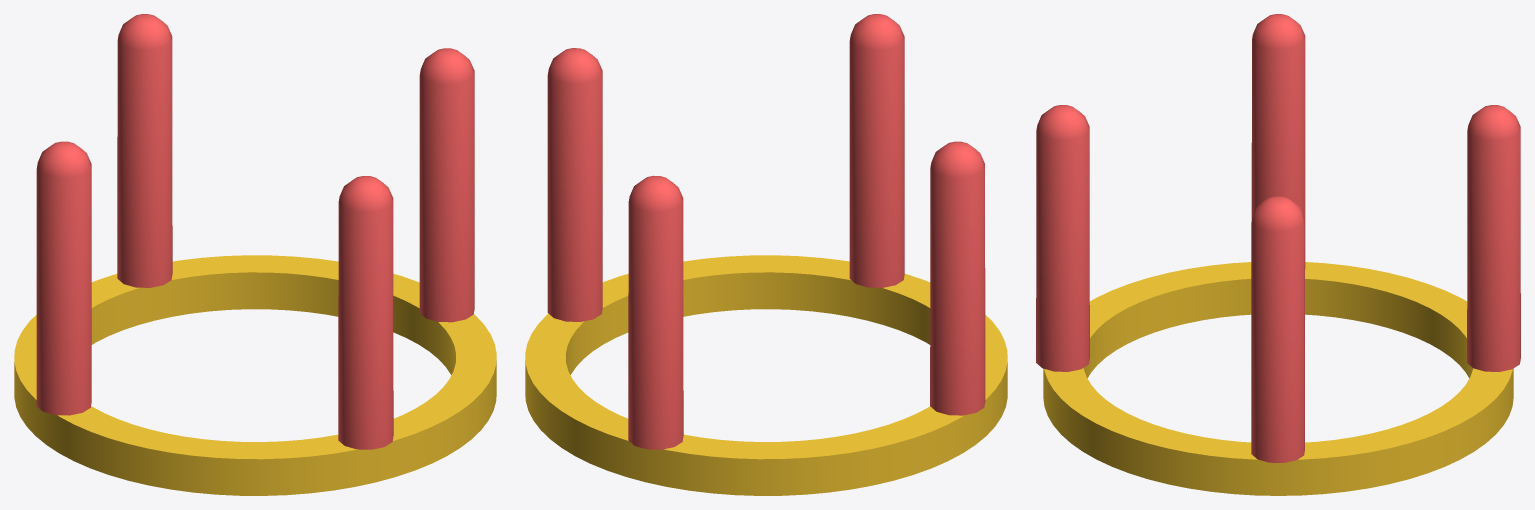
Rendered from stick_small_rotate.FBX.
The picture shows the model from 3 angles, left to right: view 1: azimuth 30°, elevation 25°; view 2: azimuth 150°, elevation 25°; view 3: azimuth 270°, elevation 25°; orthographic projection. The views are drawn at different scales.
Parts seen in each view (by area): view 1: stick_small_rotate; view 2: stick_small_rotate; view 3: stick_small_rotate.
Boxes of the visible parts, left/top/right/bottom form: stick_small_rotate: left=14, top=14, right=496, bottom=495; stick_small_rotate: left=525, top=14, right=1007, bottom=495; stick_small_rotate: left=1036, top=14, right=1520, bottom=495.
Size of the model in its own units: 6.12 by 4.02 by 6.12.
1 material, 1 textured.
